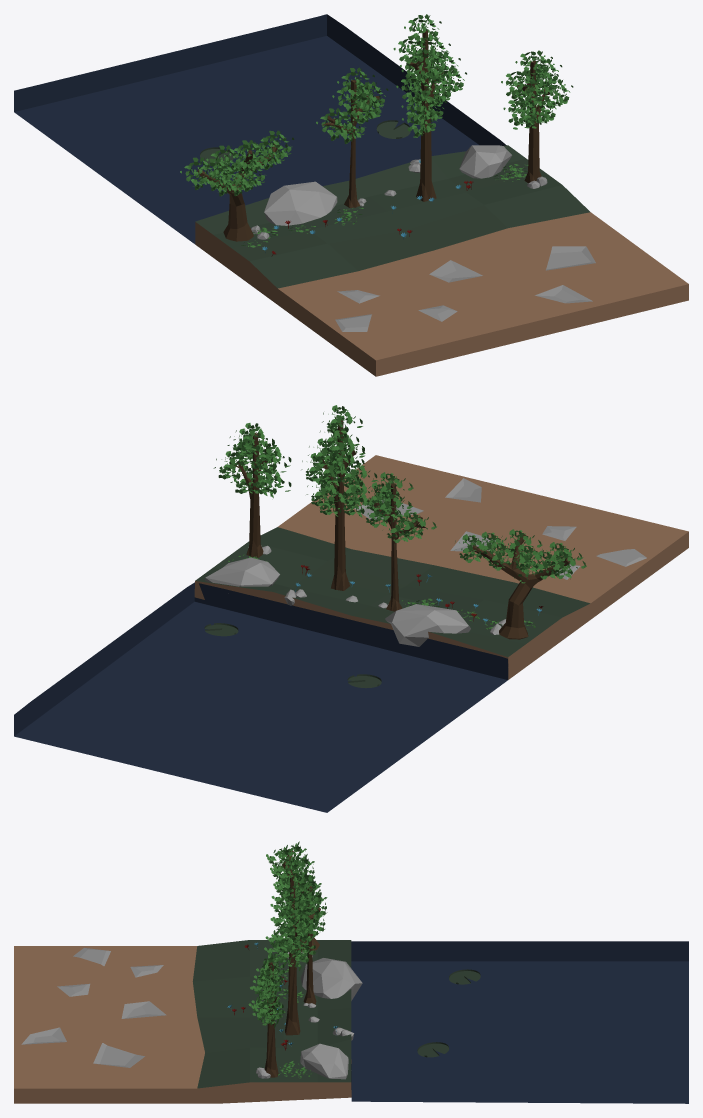
The model's file is FLORESTA 2 100_ OFICIAL.fbx.
The picture shows the model from 3 angles, top to bottom: view 1: azimuth 30°, elevation 25°; view 2: azimuth 150°, elevation 25°; view 3: azimuth 270°, elevation 25°; orthographic projection. The views are drawn at different scales.
Visible parts, largest first — view 1: Base.006, rio.008, Icosphere.014, caminhoo.002, tronco 5.003, Icosphere.013, tronco.006, caminhoo.003, tronco 2.002, tronco 3.009, A folha.018; view 2: rio.008, Base.006, Icosphere.014, tronco.006, Icosphere.013, tronco 5.003, caminhoo.002, tronco 2.002, caminhoo.003, tronco 3.009; view 3: rio.008, Base.006, caminhoo.002, Icosphere.014, Icosphere.013, caminhoo.003, tronco 5.003, tronco 2.002, tronco 3.009, A folha.032, A folha.016.
Part boxes in pixels (x1,y1,x2,y2): Base.006: [195, 145, 688, 376]; rio.008: [14, 14, 506, 244]; Icosphere.014: [264, 181, 337, 225]; caminhoo.002: [429, 246, 595, 303]; tronco 5.003: [409, 30, 444, 201]; Icosphere.013: [459, 145, 511, 178]; tronco.006: [197, 144, 277, 241]; caminhoo.003: [335, 290, 457, 331]; tronco 2.002: [517, 60, 549, 183]; tronco 3.009: [322, 80, 379, 207]; A folha.018: [404, 14, 441, 45]; rio.008: [14, 582, 508, 812]; Base.006: [194, 455, 688, 679]; Icosphere.014: [385, 604, 470, 646]; tronco.006: [472, 534, 570, 639]; Icosphere.013: [205, 557, 279, 593]; tronco 5.003: [322, 420, 356, 590]; caminhoo.002: [354, 478, 495, 551]; tronco 2.002: [234, 433, 271, 557]; caminhoo.003: [542, 526, 646, 579]; tronco 3.009: [370, 483, 425, 611]; rio.008: [351, 941, 688, 1103]; Base.006: [14, 940, 351, 1103]; caminhoo.002: [21, 1001, 166, 1067]; Icosphere.014: [300, 958, 362, 1000]; Icosphere.013: [300, 1043, 348, 1079]; caminhoo.003: [57, 948, 163, 996]; tronco 5.003: [285, 876, 300, 1035]; tronco 2.002: [264, 962, 278, 1077]; tronco 3.009: [303, 886, 320, 1004]; A folha.032: [255, 992, 285, 1023]; A folha.016: [273, 921, 303, 953].
Size of the model in its own units: 1208 by 624 by 2002.
Materials: 26 (26 with a texture image).
